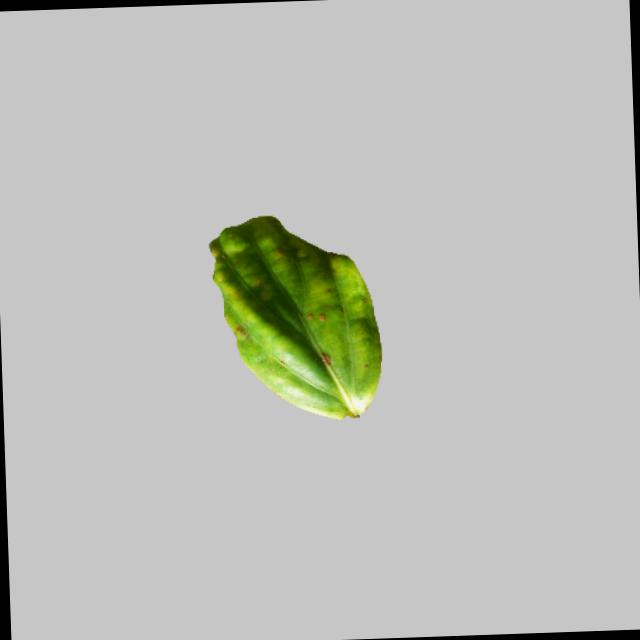yellow-mottle-virus: (196, 210, 389, 432)
